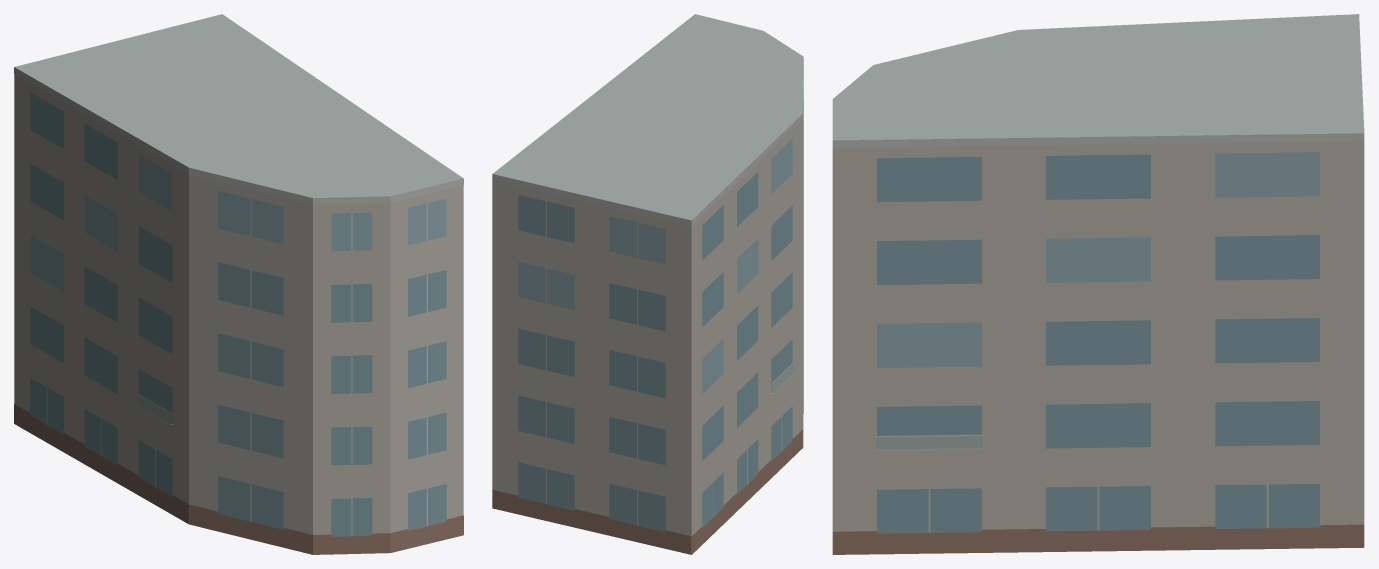
The model's file is survey-upis-32577441.glb.
The picture shows the model from 3 angles, left to right: view 1: azimuth 30°, elevation 25°; view 2: azimuth 150°, elevation 25°; view 3: azimuth 270°, elevation 25°; orthographic projection. The views are drawn at different scales.
Visible parts, largest first — view 1: survey-upis-32577441.tmp; view 2: survey-upis-32577441.tmp; view 3: survey-upis-32577441.tmp.
Part boxes in pixels (x1,y1,x2,y2): survey-upis-32577441.tmp: (14,14,463,554); survey-upis-32577441.tmp: (492,14,803,554); survey-upis-32577441.tmp: (832,14,1364,554).
Bounding box in the file's own units: 8.58 × 13.1 × 15.25.
